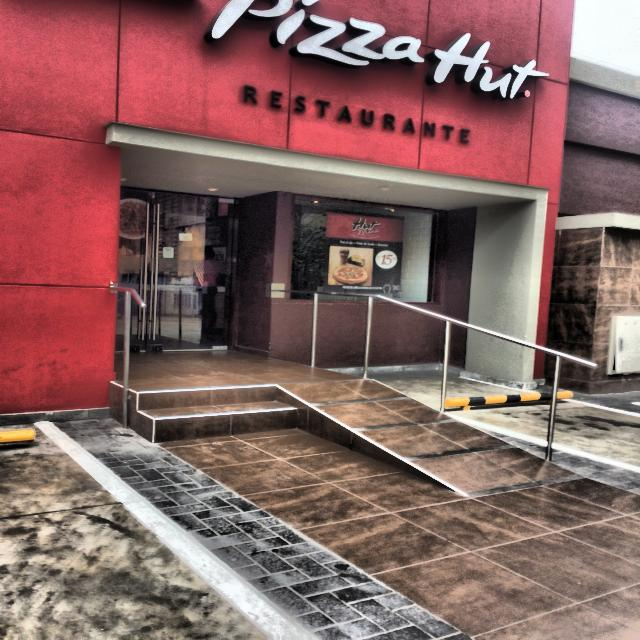escada: (110, 382, 296, 442)
